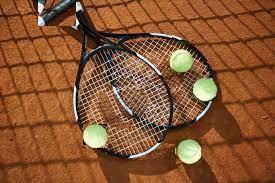tennis ball: (176, 139, 201, 164), (83, 124, 108, 148), (170, 50, 194, 73), (194, 79, 218, 102)
tennis racket: (69, 0, 172, 157), (100, 34, 215, 127), (38, 0, 76, 26)
